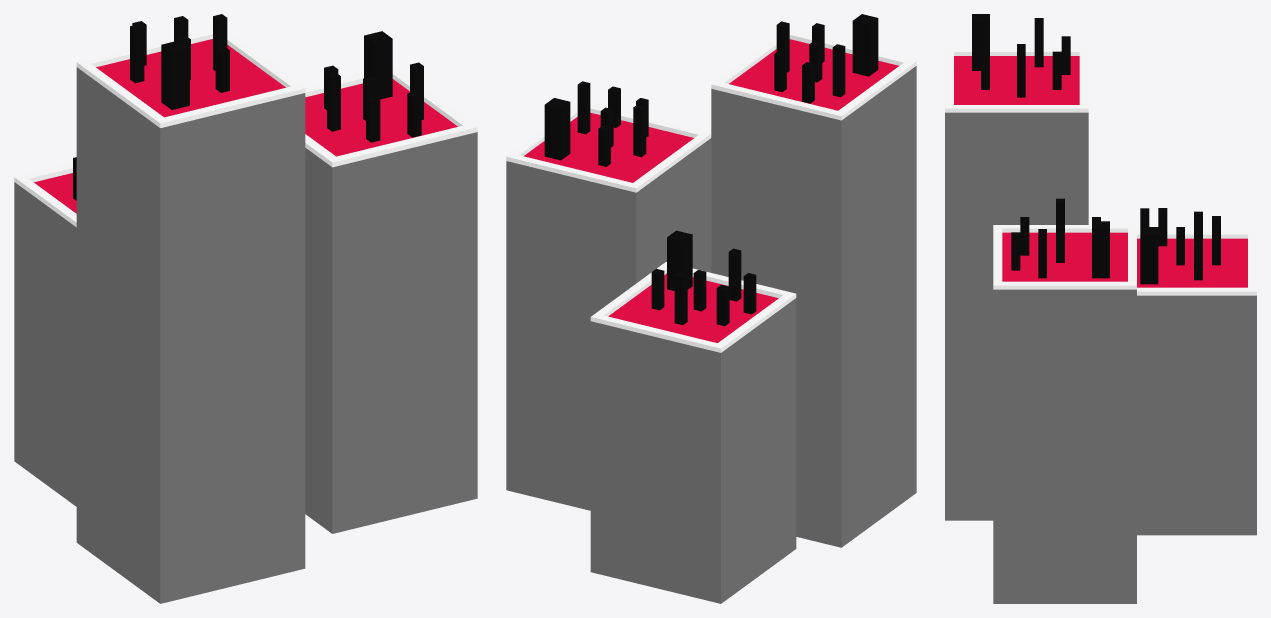
File: building_city_enemy.glb
The picture shows the model from 3 angles, left to right: view 1: azimuth 30°, elevation 25°; view 2: azimuth 150°, elevation 25°; view 3: azimuth 270°, elevation 25°; orthographic projection. The views are drawn at different scales.
Visible parts, largest first — view 1: Cube.002, Cube.003, Cube.001; view 2: Cube.002, Cube.001, Cube.003; view 3: Cube.003, Cube.002, Cube.001.
Part boxes in pixels (x1=…): Cube.002: x1=76, y1=14, x2=305, y2=603; Cube.003: x1=305, y1=31, x2=477, y2=533; Cube.001: x1=14, y1=157, x2=76, y2=506; Cube.002: x1=711, y1=14, x2=916, y2=547; Cube.001: x1=590, y1=230, x2=796, y2=603; Cube.003: x1=506, y1=81, x2=711, y2=510; Cube.003: x1=993, y1=198, x2=1136, y2=603; Cube.002: x1=945, y1=14, x2=1088, y2=520; Cube.001: x1=1137, y1=208, x2=1256, y2=535.
Size of the model in its own units: 1.35 by 1.99 by 1.23.
